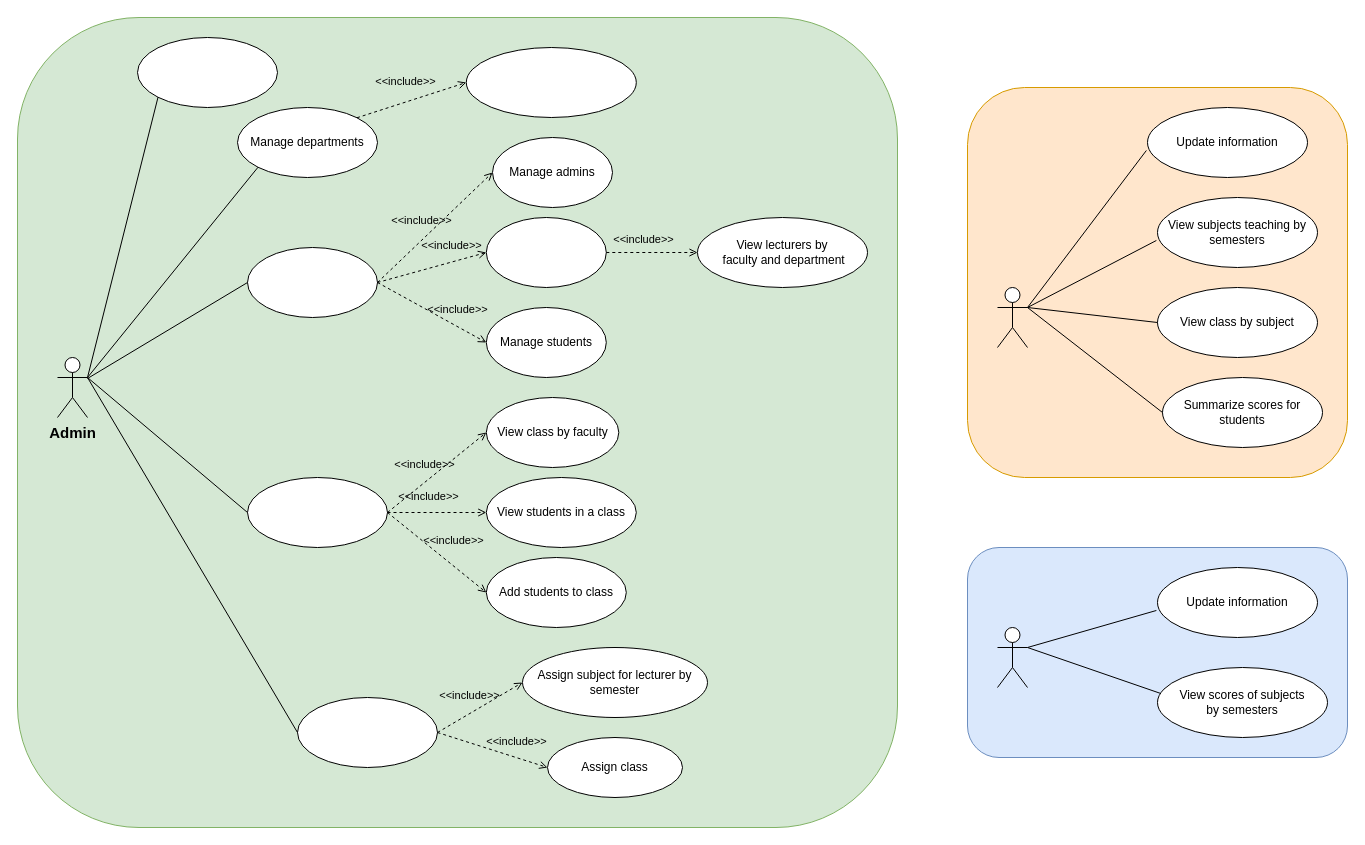
Some shapes in this 1365 by 845 pixel diagram are drawn without their labels. Here are the shapes that lost their labels. From the top down, the box of each, then its label:
(136, 36, 278, 108): Manage faculties
(465, 46, 636, 118): View depratments by faculty
(485, 216, 606, 288): Manage lecturers
(246, 246, 378, 318): Manage users
(996, 286, 1028, 348): Lecturer
(246, 476, 388, 548): Manage class
(996, 626, 1028, 688): Student
(296, 696, 438, 768): Manage subjects
